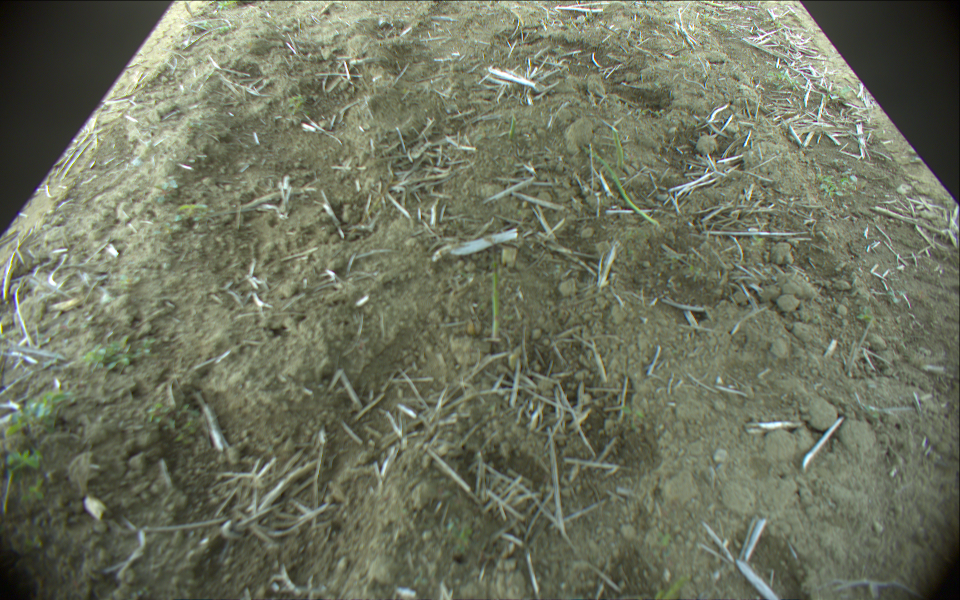aspa: (584, 147, 660, 228), (488, 250, 501, 339), (609, 126, 628, 169), (505, 114, 516, 139)
